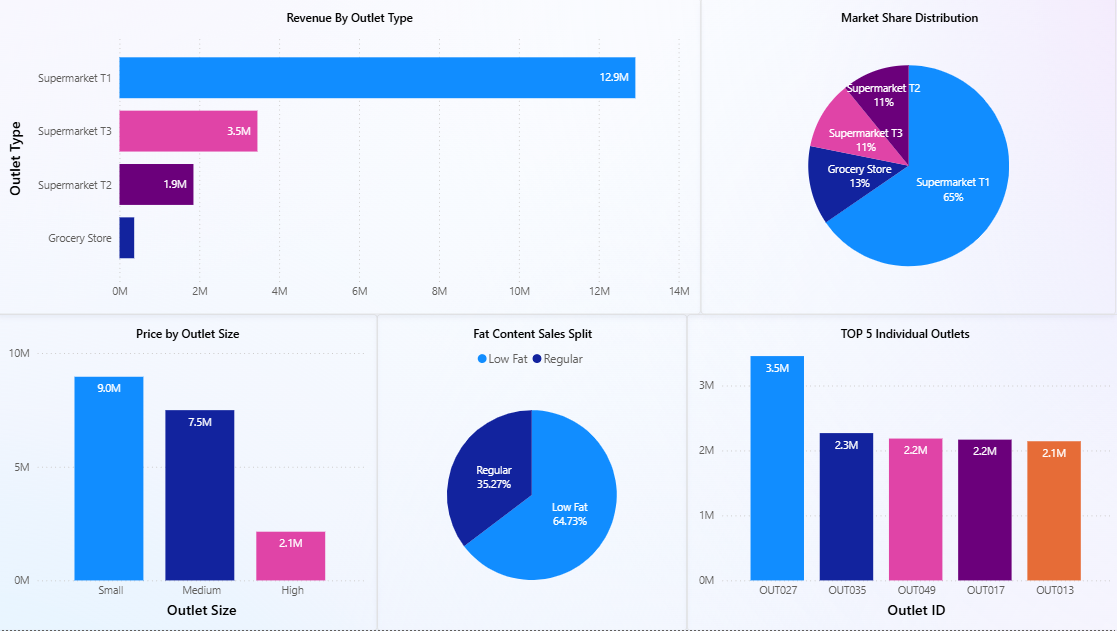

Layout of this report page (visuals, bound fields, positions):
{"tool":"powerbi","page":{"name":"Page 1","canvas":[1280,720],"ordinal":0},"visuals":[{"type":"pieChart","title":"Fat Content Sales Split","fields":{"Category":["Table1.Item_Fat_Content"],"Y":["CountNonNull(Table1.Item_Identifier)"]},"box":[432.5,359.9,352.8,359.9],"z":0},{"type":"pieChart","title":"Market Share Distribution","fields":{"Category":["Table1.Outlet_Type"],"Y":["CountNonNull(Table1.Outlet_Type)"]},"box":[800.9,0,473.7,359.9],"z":1000},{"type":"columnChart","title":"TOP 5 Individual Outlets","fields":{"Category":["Table1.Outlet_Identifier"],"Y":["Sum(Table1.Item_Outlet_Sales)"],"Series":["Table1.Outlet_Identifier"]},"box":[785.2,359.9,495,359.9],"z":2000},{"type":"columnChart","title":"Price by Outlet Size","fields":{"Category":["Table1.Outlet_Size"],"Y":["Sum(Table1.Item_Outlet_Sales)"],"Series":["Table1.Outlet_Size"]},"box":[0,359.9,432.5,359.9],"z":3000},{"type":"barChart","title":"Revenue By Outlet Type","fields":{"Y":["Sum(Table1.Item_Outlet_Sales)"],"Category":["Table1.Outlet_Type"],"Series":["Table1.Outlet_Type"]},"box":[0,0,800.9,359.9],"z":4000}]}

Visuals, with their boxes in screenshot pixels (x1, y1, x2, y2), scaled from the page's 1280x720 canvas onto the 1117x631 screenshot:
"Fat Content Sales Split" pieChart: {"left": 377, "top": 315, "right": 685, "bottom": 630}
"Market Share Distribution" pieChart: {"left": 699, "top": 0, "right": 1112, "bottom": 315}
"TOP 5 Individual Outlets" columnChart: {"left": 685, "top": 315, "right": 1116, "bottom": 630}
"Price by Outlet Size" columnChart: {"left": 0, "top": 315, "right": 377, "bottom": 630}
"Revenue By Outlet Type" barChart: {"left": 0, "top": 0, "right": 699, "bottom": 315}
